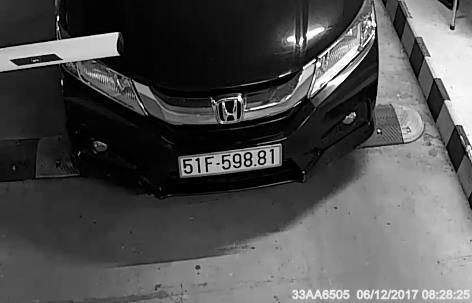License-plate: (175, 139, 292, 182)
